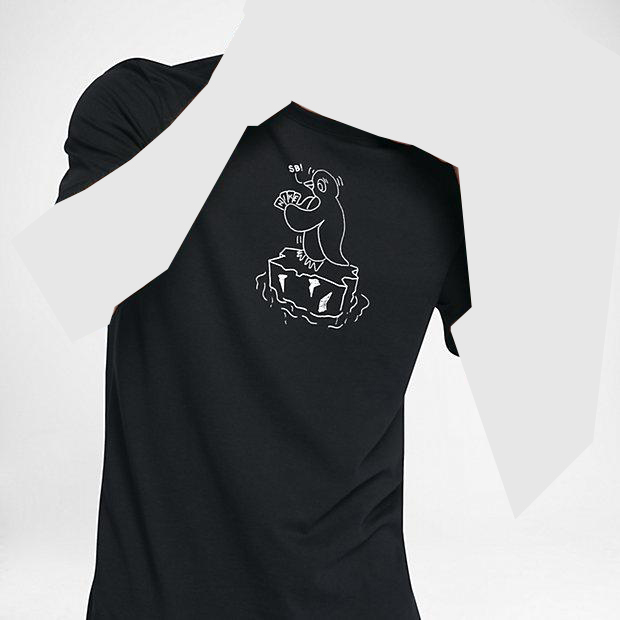teeshirt: (64, 52, 474, 620)
